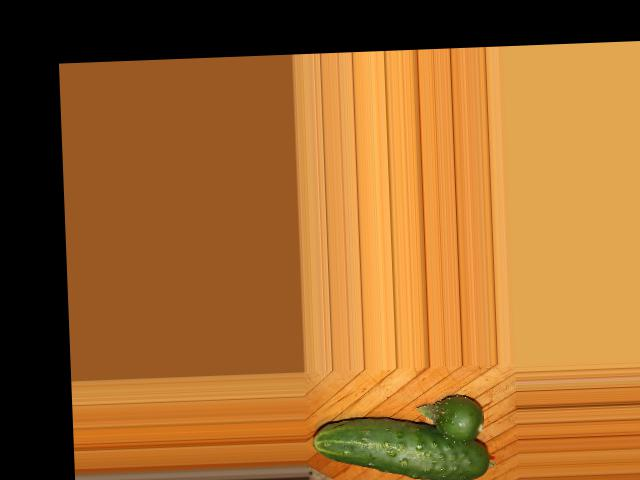cucumber: (311, 412, 490, 480)
